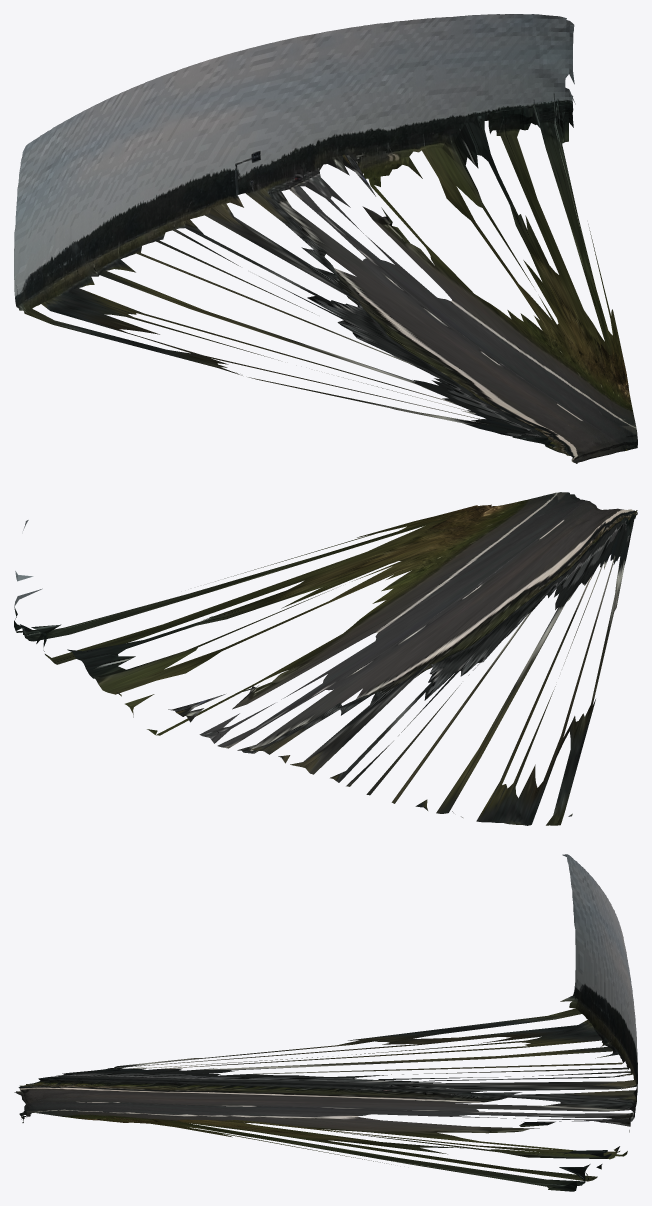
The picture shows the model from 3 angles, top to bottom: view 1: azimuth 30°, elevation 25°; view 2: azimuth 150°, elevation 25°; view 3: azimuth 270°, elevation 25°; orthographic projection. The views are drawn at different scales.
Visible parts, largest first — view 1: defaultobject; view 2: defaultobject; view 3: defaultobject.
Boxes of the visible parts, x1,y1,x2,y2 form: defaultobject: (14, 14, 637, 463); defaultobject: (14, 492, 637, 825); defaultobject: (14, 854, 637, 1191).
Size of the model in its own units: 41.03 by 13.27 by 44.74.
1 material, 1 textured.
